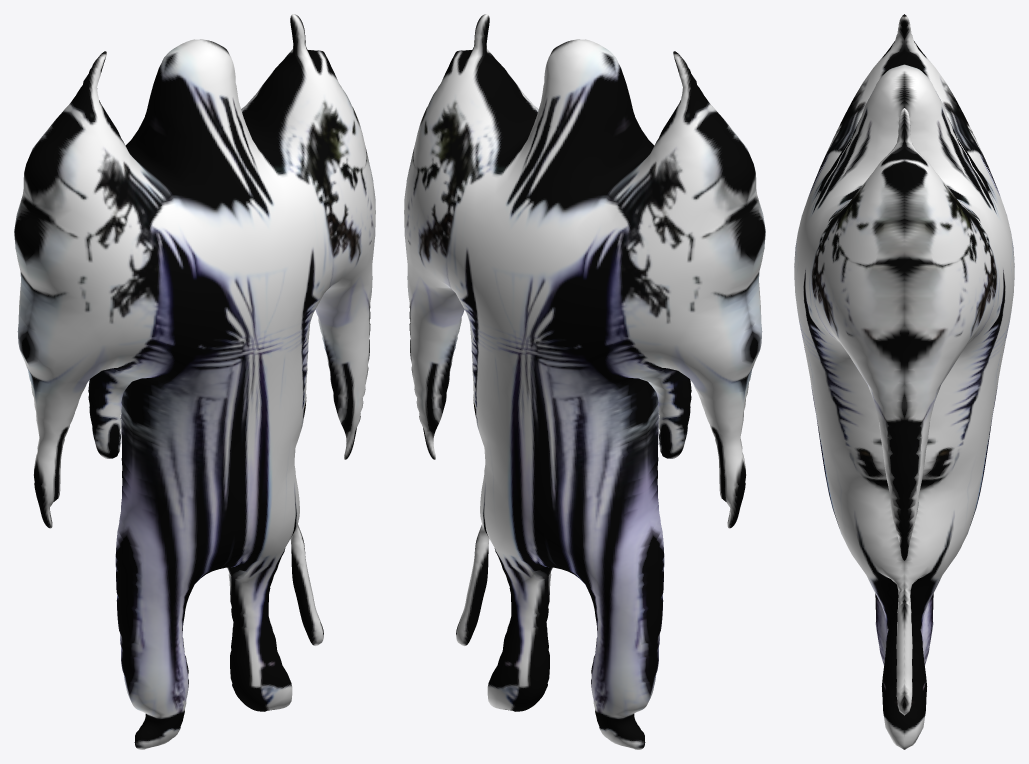
The model's file is guardian.glb.
3 renders of one model, left to right at view 1: azimuth 30°, elevation 25°; view 2: azimuth 150°, elevation 25°; view 3: azimuth 270°, elevation 25°, orthographic. The views are drawn at different scales.
Size of the model in its own units: 2.49 by 4.89 by 1.48.
Materials: 1 (1 with a texture image).
